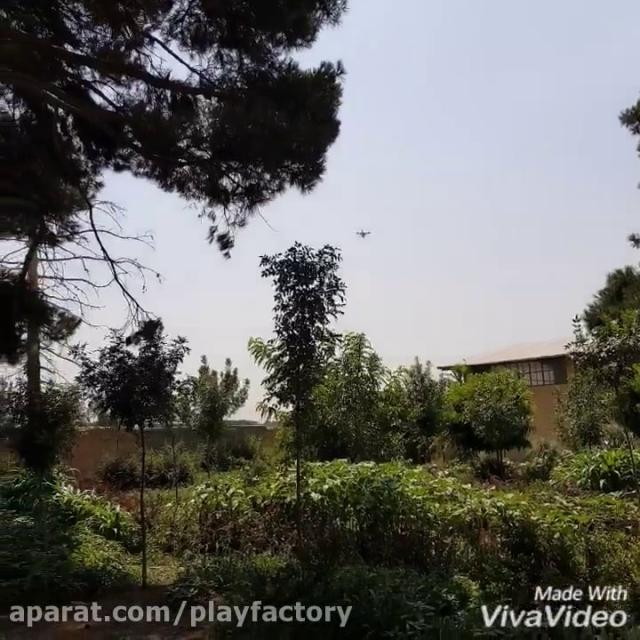drone: (354, 224, 372, 242)
